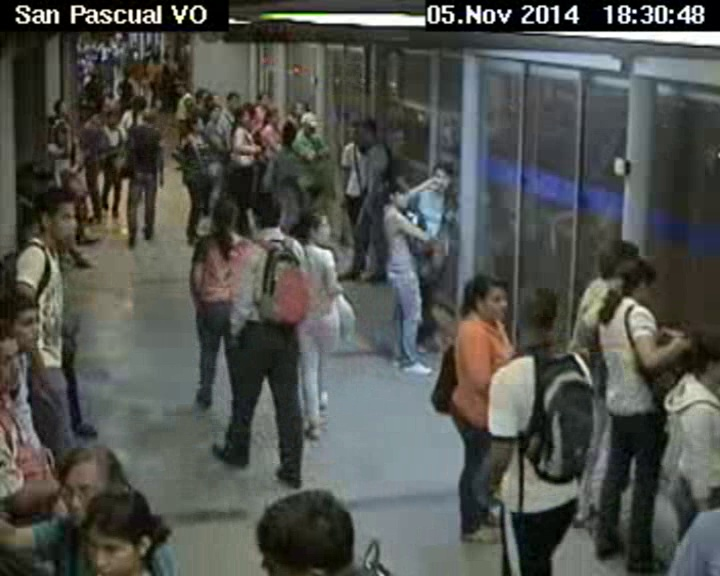person: (242, 488, 376, 576), (73, 479, 180, 576), (53, 437, 128, 517), (1, 284, 55, 351), (519, 282, 572, 349), (33, 182, 82, 249), (591, 235, 646, 286), (610, 251, 660, 306), (682, 331, 720, 401), (460, 270, 510, 322), (1, 323, 32, 400), (293, 200, 335, 250), (246, 187, 283, 235), (210, 196, 239, 236), (377, 183, 412, 212), (430, 158, 455, 192), (344, 118, 366, 146), (359, 117, 379, 147), (279, 120, 297, 146), (51, 120, 69, 143), (78, 97, 96, 120), (300, 113, 319, 134), (185, 113, 204, 134), (225, 89, 240, 113), (129, 94, 146, 115), (293, 98, 311, 117), (52, 99, 70, 118), (235, 107, 250, 128), (103, 110, 119, 128), (208, 103, 222, 123), (140, 112, 158, 127), (262, 109, 278, 125), (195, 86, 208, 103), (172, 81, 186, 94)
